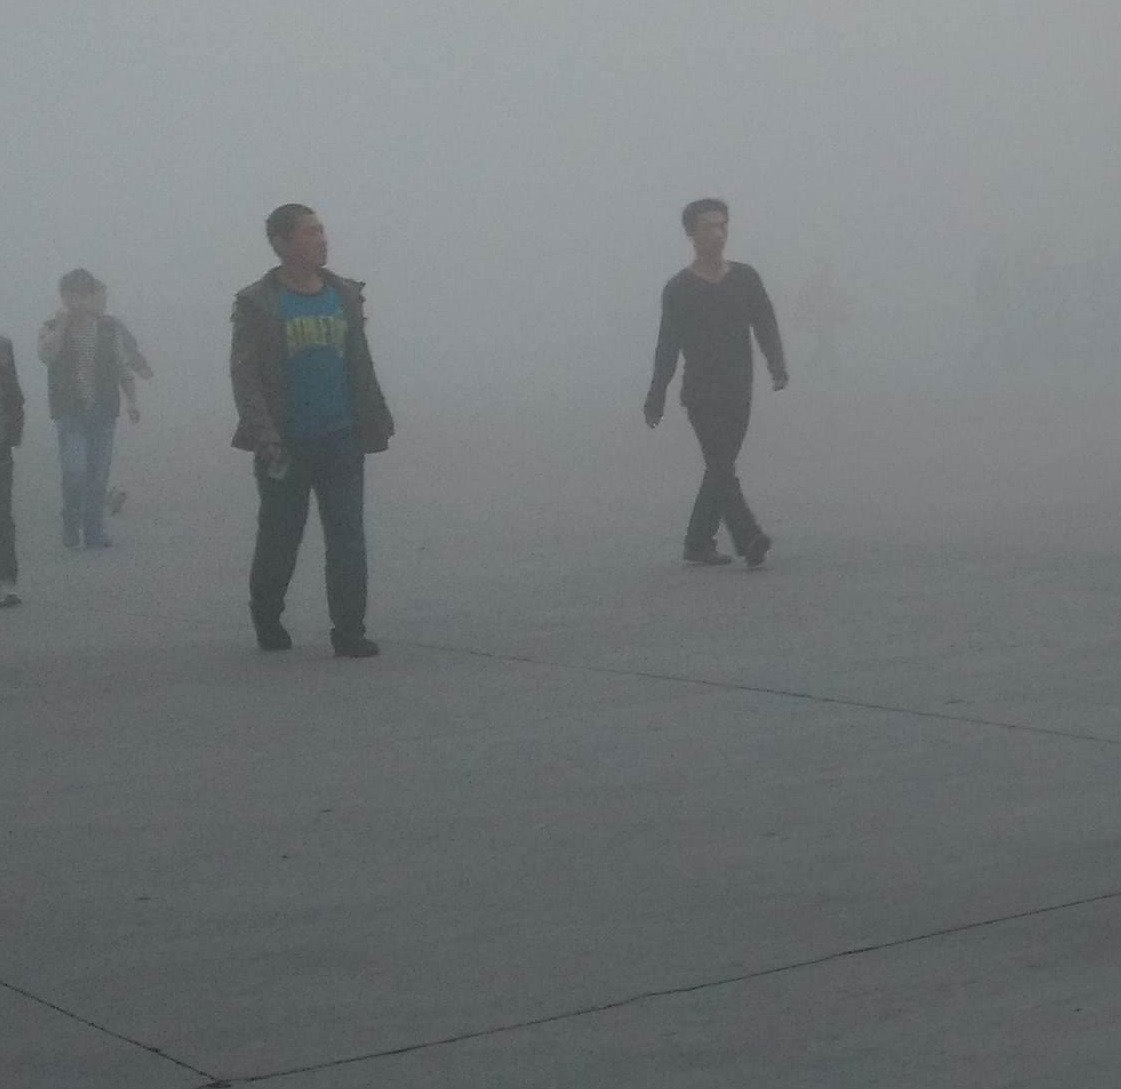person: (226, 202, 406, 670), (640, 192, 791, 577), (41, 262, 161, 553)
